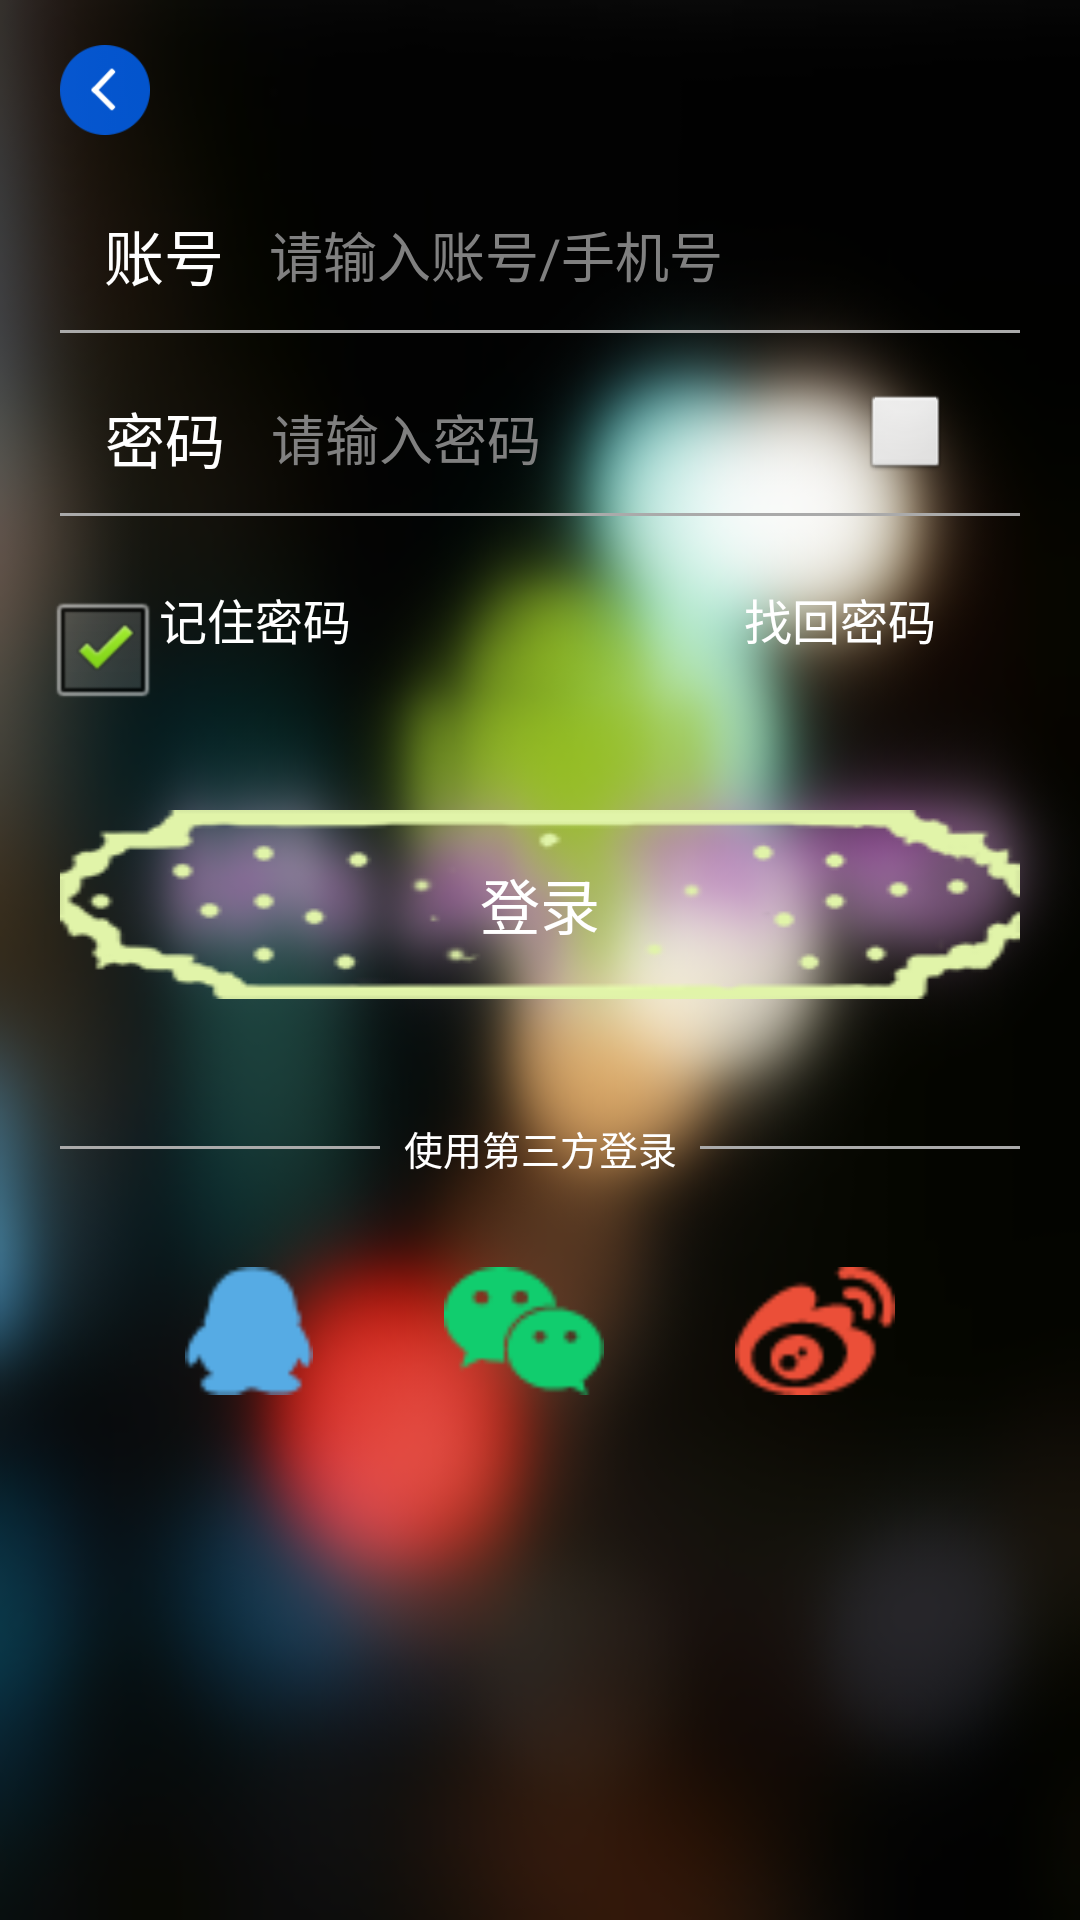

Where to tap for icons on this 1080px×1920px app screen, as (x,y):
return float: (105,90)
